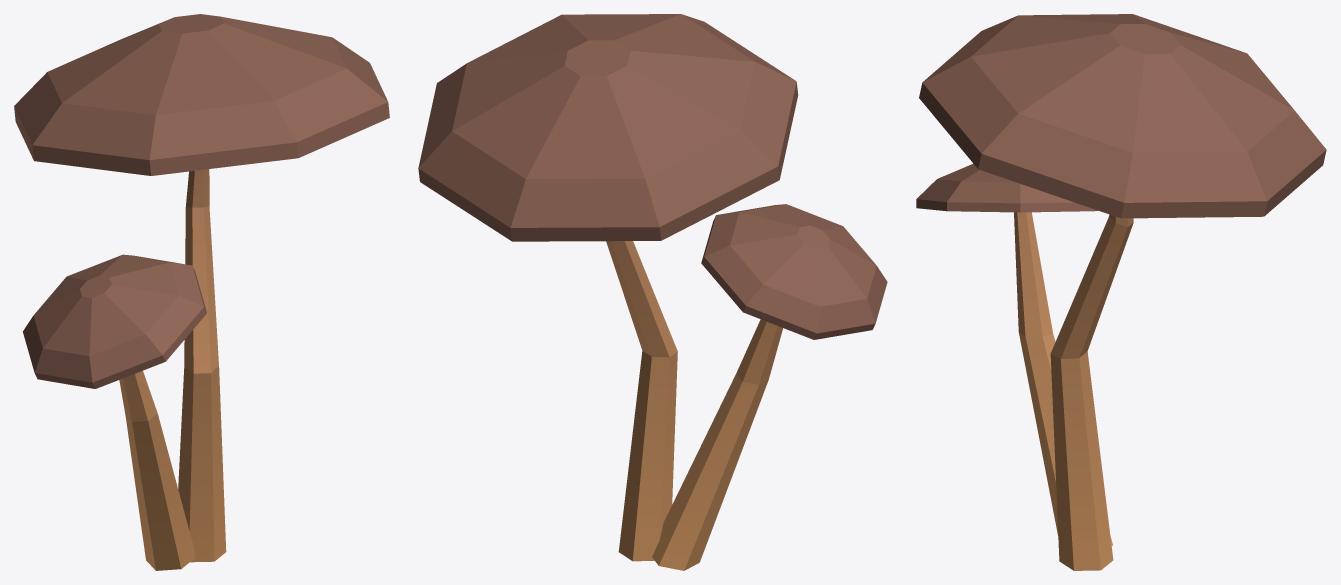
The model's file is mushroom01.obj.
The picture shows the model from 3 angles, left to right: view 1: azimuth 30°, elevation 25°; view 2: azimuth 150°, elevation 25°; view 3: azimuth 270°, elevation 25°; orthographic projection. The views are drawn at different scales.
Parts seen in each view (by area): view 1: Cylinder.025_Cylinder.043; view 2: Cylinder.025_Cylinder.043; view 3: Cylinder.025_Cylinder.043.
Boxes of the visible parts, x1,y1,x2,y2 form: Cylinder.025_Cylinder.043: (14, 14, 389, 570); Cylinder.025_Cylinder.043: (418, 14, 887, 570); Cylinder.025_Cylinder.043: (916, 14, 1326, 570).
Size of the model in its own units: 0.9495 by 1.21 by 0.8315.
